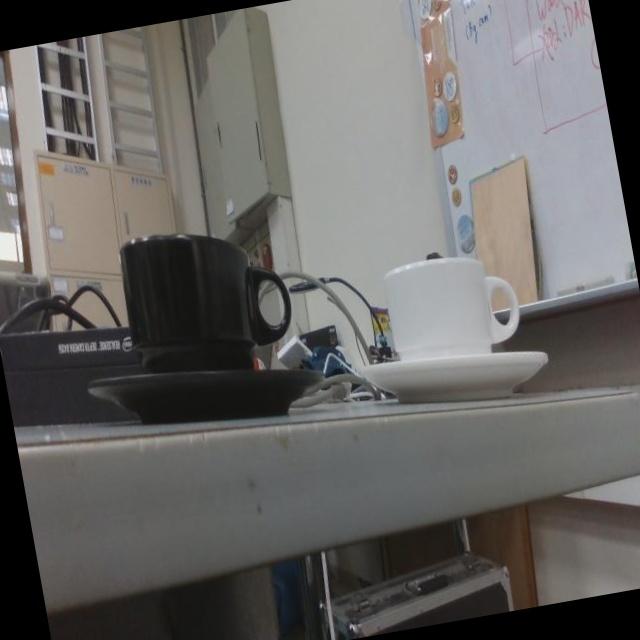black: (76, 225, 320, 433)
white: (351, 252, 544, 410)
